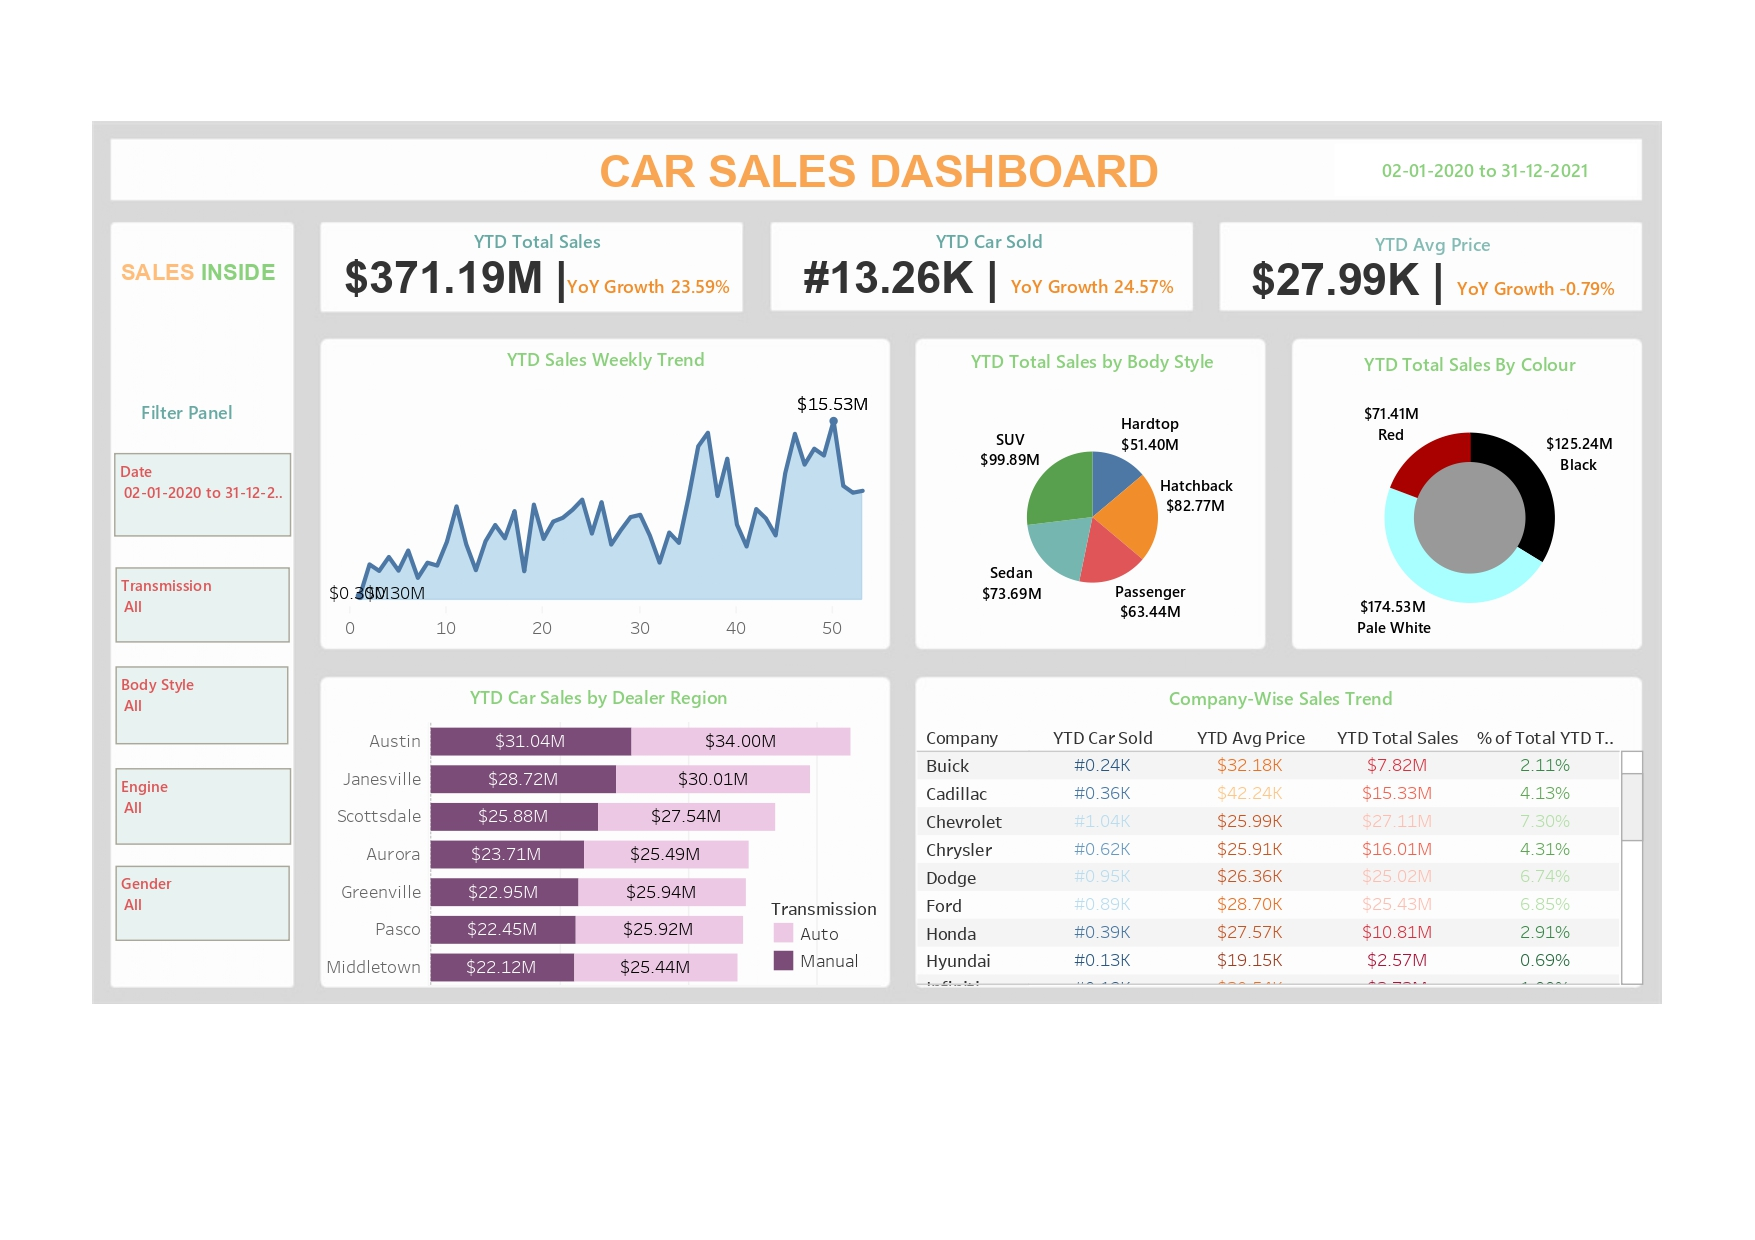

What the dashboard file says about the page in this screenshot:
{"tool":"tableau","page":{"name":"Dashboard 1","canvas":[1150,700],"ordinal":0},"visuals":[{"type":"image","param":"C:/Users/asus/Downloads/Car Sales Background Tableau.jpg","box":[8,8,1134,684]},{"type":"text","box":[357,47,439,44]},{"type":"worksheet","title":"Date Range","mark":"Automatic","box":[903,49,217,38]},{"type":"worksheet","title":"YTD Car Sold","mark":"Automatic","box":[496,97,320,81]},{"type":"worksheet","title":"YTD Avg Price","mark":"Automatic","box":[817,98,315,83]},{"type":"worksheet","title":"YTD Total Sales","mark":"Automatic","box":[176,99,312,77]},{"type":"text","box":[30,127,124,30]},{"type":"worksheet","title":"YTD Sales Weekly Trend","mark":"Area","rows":["Calculation_2661064434914050048","Calculation_2661064434914050048"],"cols":["Date"],"box":[176,189,409,222]},{"type":"worksheet","title":"YTD Total Sales by Body Style","mark":"Pie","box":[603,190,253,221]},{"type":"worksheet","title":"YTD Total Sales By Colour","mark":"Pie","rows":["Calculation_2661064434973564939","Calculation_2661064434973593613"],"box":[875,192,250,218]},{"type":"text","box":[45,227,100,30]},{"type":"filter","title":"YTD Sales Weekly Trend","param":"[federated.16f0eld00uu30z11n4bwf0nknazp].[none:Date:qk]","box":[28,271,127,60]},{"type":"filter","title":"YTD Sales Weekly Trend","param":"[federated.16f0eld00uu30z11n4bwf0nknazp].[none:Transmission:nk]","box":[29,353,125,54]},{"type":"filter","title":"YTD Sales Weekly Trend","param":"[federated.16f0eld00uu30z11n4bwf0nknazp].[none:Body Style:nk]","box":[29,424,124,56]},{"type":"worksheet","title":"YTD Car Sales by Dealer Region","mark":"Automatic","rows":["Dealer_Region"],"cols":["Calculation_2661064434914050048"],"box":[173,431,405,222]},{"type":"worksheet","title":"Company-Wise Sales Trend","mark":"Automatic","rows":["Company"],"box":[604,432,521,221]},{"type":"filter","title":"YTD Sales Weekly Trend","param":"[federated.16f0eld00uu30z11n4bwf0nknazp].[none:Engine:nk]","box":[29,497,126,55]},{"type":"filter","title":"YTD Sales Weekly Trend","param":"[federated.16f0eld00uu30z11n4bwf0nknazp].[none:Gender:nk]","box":[29,567,125,54]},{"type":"legend","title":"YTD Car Sales by Dealer Region","param":"[federated.16f0eld00uu30z11n4bwf0nknazp].[none:Transmission:nk]","box":[498,587,140,58]}]}

Visuals, with their boxes on the page's 1150x700 design canvas (x1, y1, x2, y2). These are canvas units, not pixel positions in the 1755x1240 screenshot, which may show the page scaled, cropped or inside an application window:
image: l=8, t=8, r=1142, b=692
text: l=357, t=47, r=796, b=91
"Date Range" worksheet: l=903, t=49, r=1120, b=87
"YTD Car Sold" worksheet: l=496, t=97, r=816, b=178
"YTD Avg Price" worksheet: l=817, t=98, r=1132, b=181
"YTD Total Sales" worksheet: l=176, t=99, r=488, b=176
text: l=30, t=127, r=154, b=157
"YTD Sales Weekly Trend" worksheet (Area marks): l=176, t=189, r=585, b=411
"YTD Total Sales by Body Style" worksheet (Pie marks): l=603, t=190, r=856, b=411
"YTD Total Sales By Colour" worksheet (Pie marks): l=875, t=192, r=1125, b=410
text: l=45, t=227, r=145, b=257
"YTD Sales Weekly Trend" filter: l=28, t=271, r=155, b=331
"YTD Sales Weekly Trend" filter: l=29, t=353, r=154, b=407
"YTD Sales Weekly Trend" filter: l=29, t=424, r=153, b=480
"YTD Car Sales by Dealer Region" worksheet: l=173, t=431, r=578, b=653
"Company-Wise Sales Trend" worksheet: l=604, t=432, r=1125, b=653
"YTD Sales Weekly Trend" filter: l=29, t=497, r=155, b=552
"YTD Sales Weekly Trend" filter: l=29, t=567, r=154, b=621
"YTD Car Sales by Dealer Region" legend: l=498, t=587, r=638, b=645
